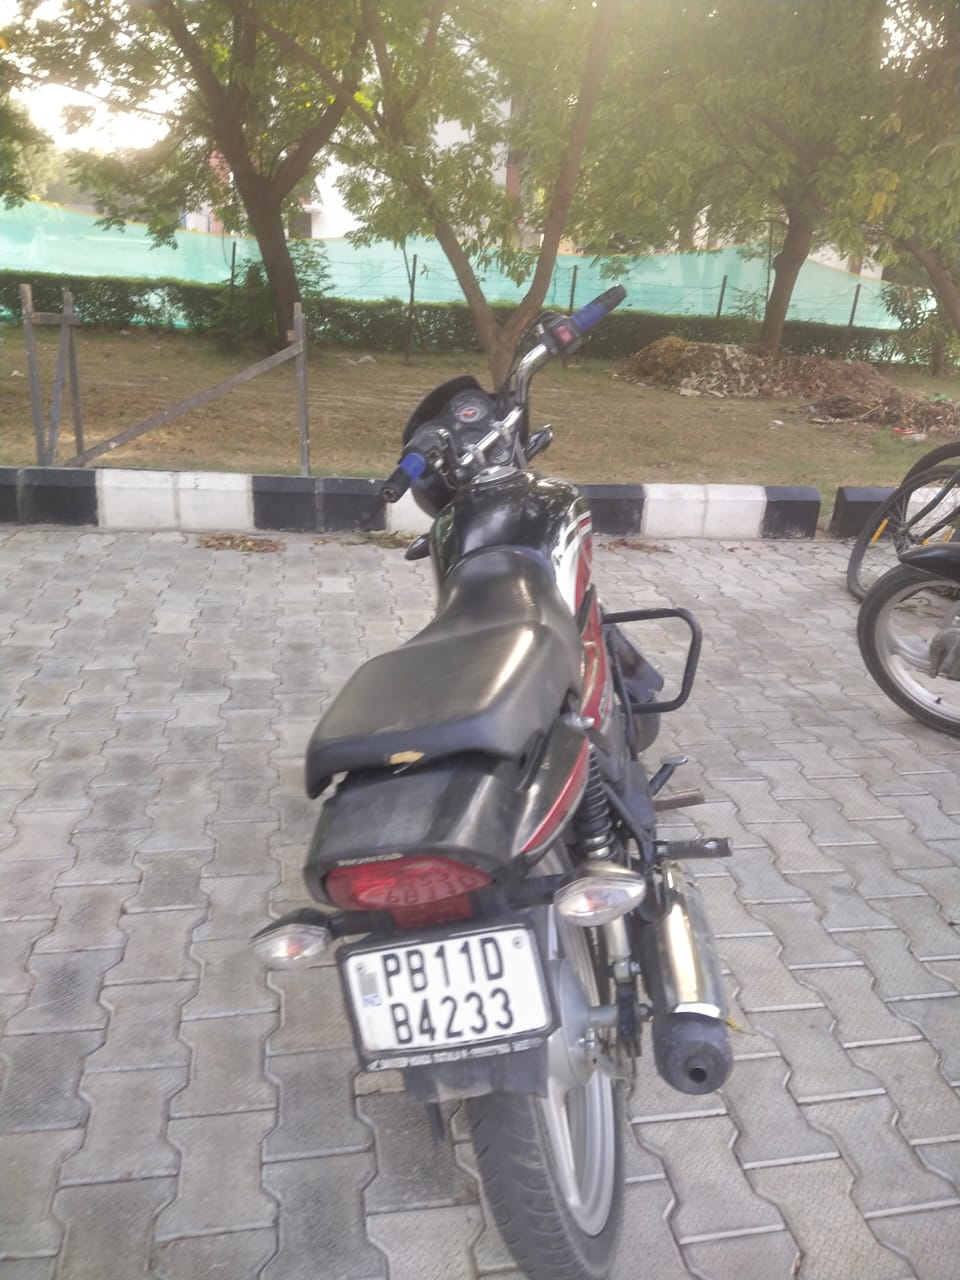license plate: (341, 924, 552, 1070)
